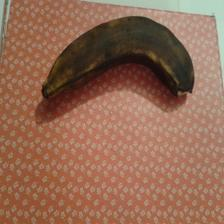Banana Rotten: (29, 22, 202, 102)
